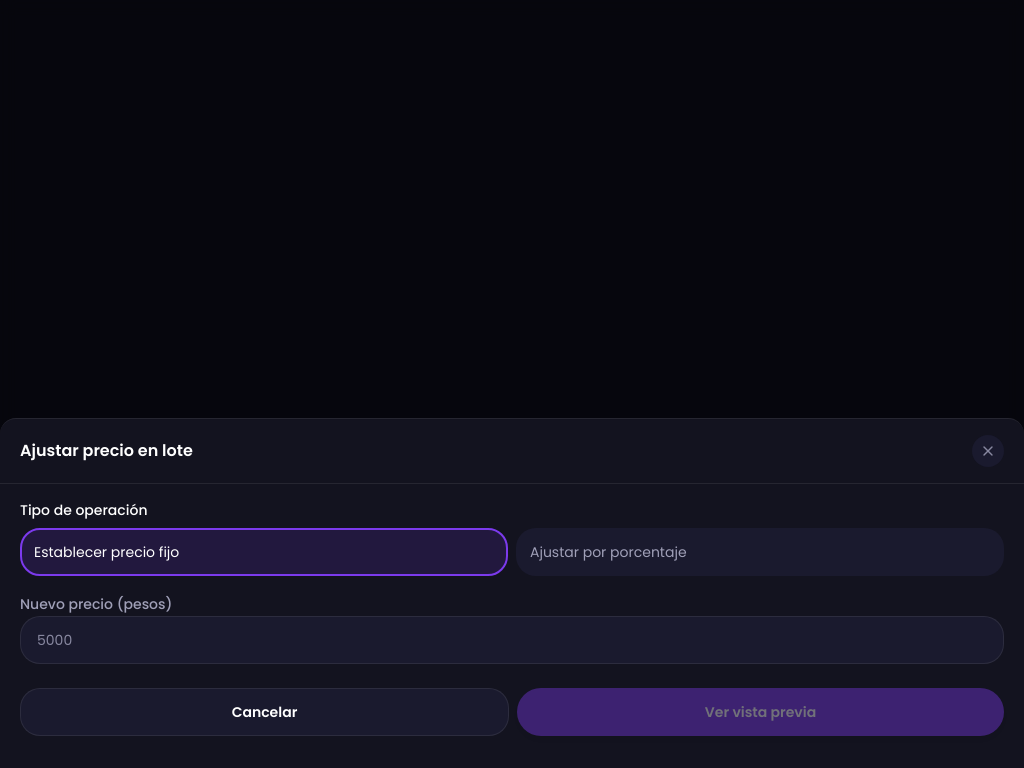
BulkPriceDialog › en preview con vehículo que daría precio negativo, fila inválida y Confirmar deshabilitado
The image size is (1024, 768).
Click the radio button labelled "Ajustar por porcentaje" at (608, 552), box [516,528,1004,576]
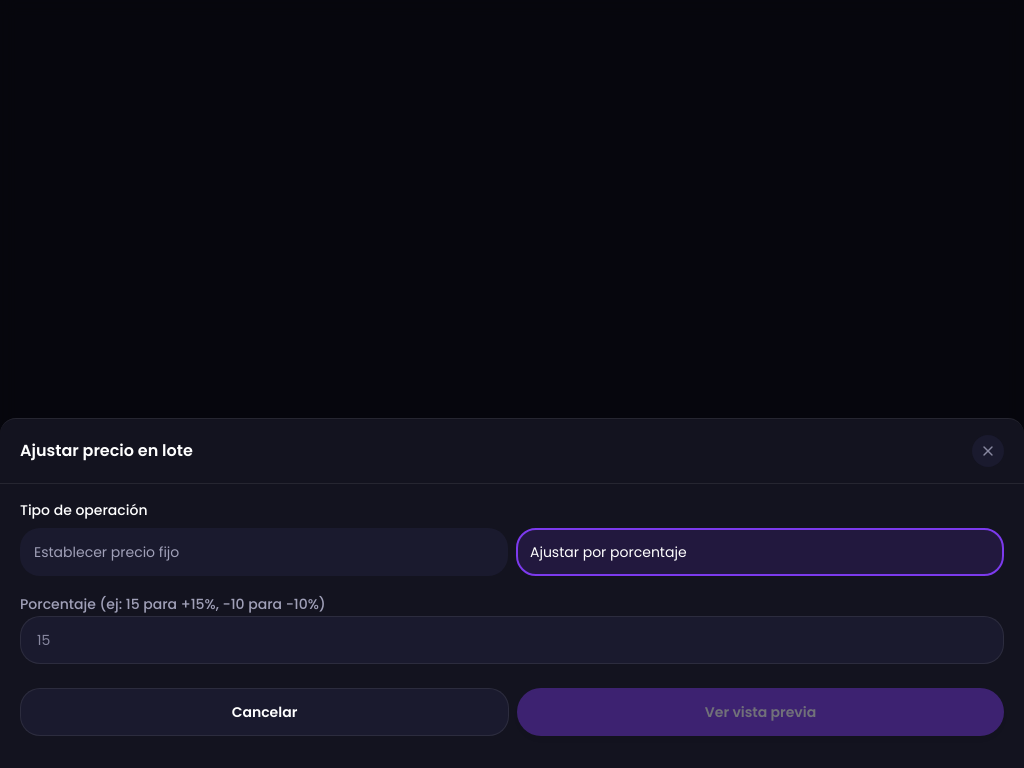
Type "-90" into the number field at (512, 640), box [20,616,1004,664]
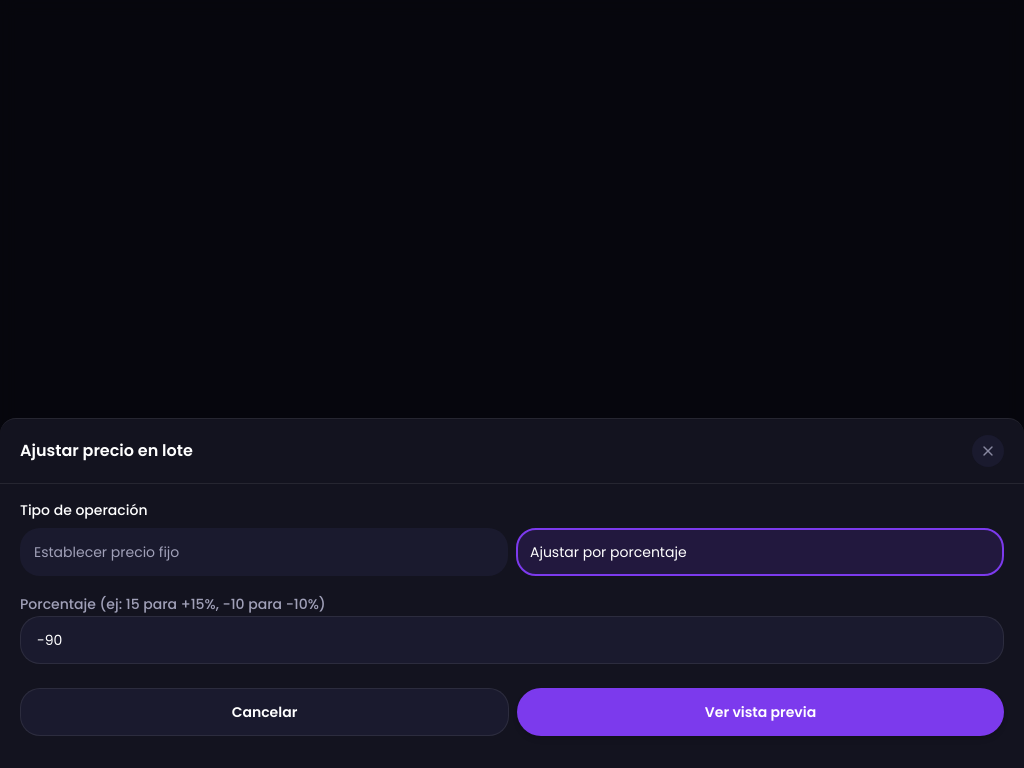
Click the button "Ver vista previa" at (760, 712), box [517,688,1004,736]
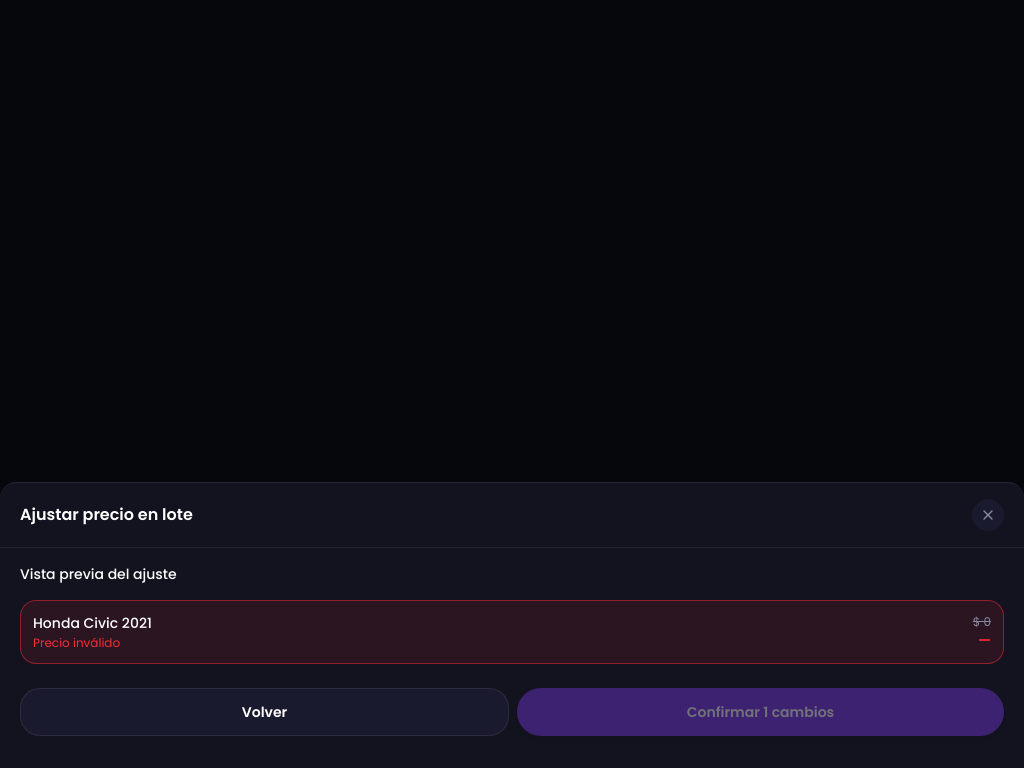
Now the text "Precio inválido" is shown, box [33,634,120,651]
Now the button "Confirmar 1 cambios" is disabled, box [517,688,1004,736]
